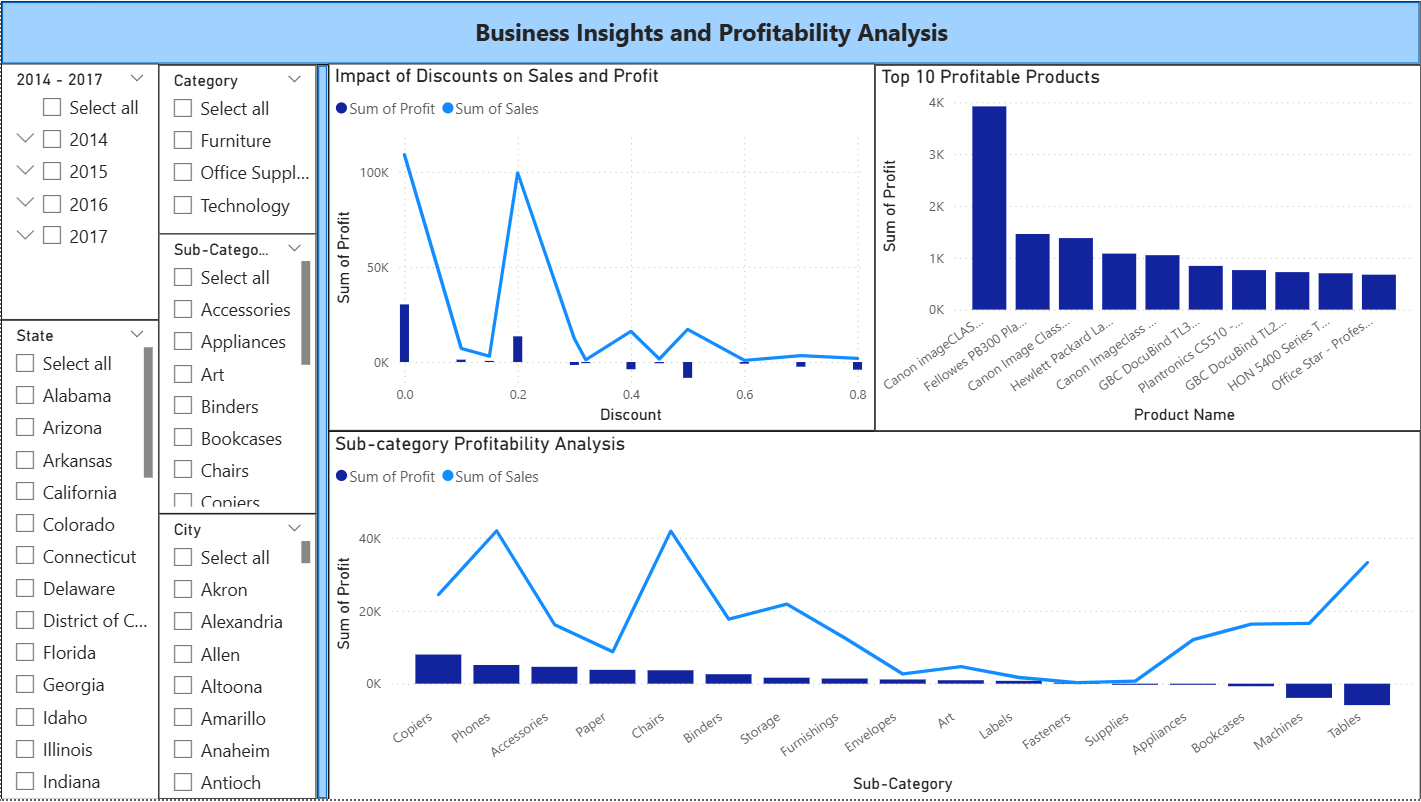

What the dashboard file says about the page in this screenshot:
{"tool":"powerbi","page":{"name":"Page 3","canvas":[1280,720],"ordinal":2},"visuals":[{"type":"shape","box":[0,0,1280.3,57.6],"z":4000},{"type":"textbox","box":[378.8,7.5,523.8,43.8],"z":5000},{"type":"lineStackedColumnComboChart","title":"Impact of Discounts on Sales and Profit","fields":{"Category":["Sample - Superstore.Discount"],"Y":["Sum(Sample - Superstore.Profit)"],"Y2":["Sum(Sample - Superstore.Sales)"]},"box":[295,56.2,492.5,331.2],"z":7000},{"type":"lineStackedColumnComboChart","title":"Sub-category Profitability Analysis","fields":{"Category":["Sample - Superstore.Sub-Category"],"Y":["Sum(Sample - Superstore.Profit)"],"Y2":["Sum(Sample - Superstore.Sales)"]},"box":[295,387.5,985,332.5],"z":8000},{"type":"columnChart","title":"Top 10 Profitable Products","fields":{"Y":["Sum(Sample - Superstore.Profit)"],"Category":["Sample - Superstore.Product Name"]},"box":[787.5,57.5,492.5,330],"z":10000},{"type":"slicer","title":"Timeline","fields":{"Values":["Sample - Superstore.Order Date.Variation.Date Hierarchy.Year","Sample - Superstore.Order Date.Variation.Date Hierarchy.Quarter","Sample - Superstore.Order Date.Variation.Date Hierarchy.Month","Sample - Superstore.Order Date.Variation.Date Hierarchy.Day"]},"box":[0,56.2,142.5,231.2],"z":10001},{"type":"slicer","fields":{"Values":["Sample - Superstore.State"]},"box":[0,287.5,142.5,432.5],"z":10002},{"type":"slicer","fields":{"Values":["Sample - Superstore.City"]},"box":[142.5,462.5,142.5,257.5],"z":10003},{"type":"slicer","fields":{"Values":["Sample - Superstore.Category"]},"box":[142.5,57.5,142.5,152.5],"z":10004},{"type":"slicer","fields":{"Values":["Sample - Superstore.Sub-Category"]},"box":[142.5,210,142.5,252.5],"z":10005},{"type":"shape","box":[285,57.5,10,662.5],"z":10006}]}

Visuals, with their boxes in screenshot pixels (x1, y1, x2, y2), scaled from the page's 1280x720 canvas onto the 1421x802 screenshot:
shape: (0,0,1420,64)
textbox: (421,8,1002,57)
"Impact of Discounts on Sales and Profit" lineStackedColumnComboChart: (327,63,874,432)
"Sub-category Profitability Analysis" lineStackedColumnComboChart: (327,432,1420,801)
"Top 10 Profitable Products" columnChart: (874,64,1420,432)
"Timeline" slicer: (0,63,158,320)
slicer - Sample - Superstore.State: (0,320,158,801)
slicer - Sample - Superstore.City: (158,515,316,801)
slicer - Sample - Superstore.Category: (158,64,316,234)
slicer - Sample - Superstore.Sub-Category: (158,234,316,515)
shape: (316,64,327,801)
